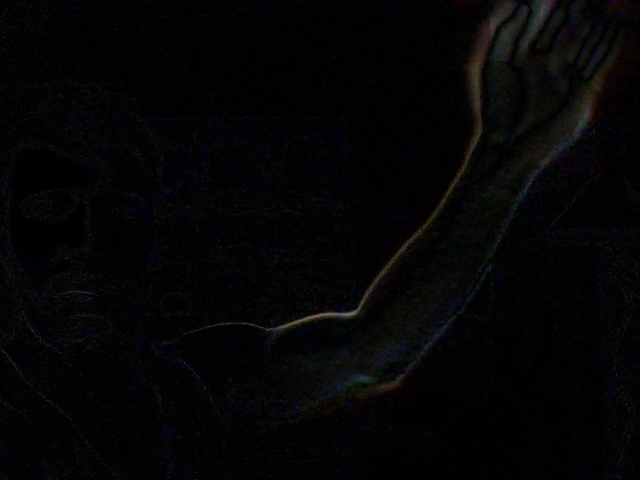arm_fo: (356, 1, 638, 369)
